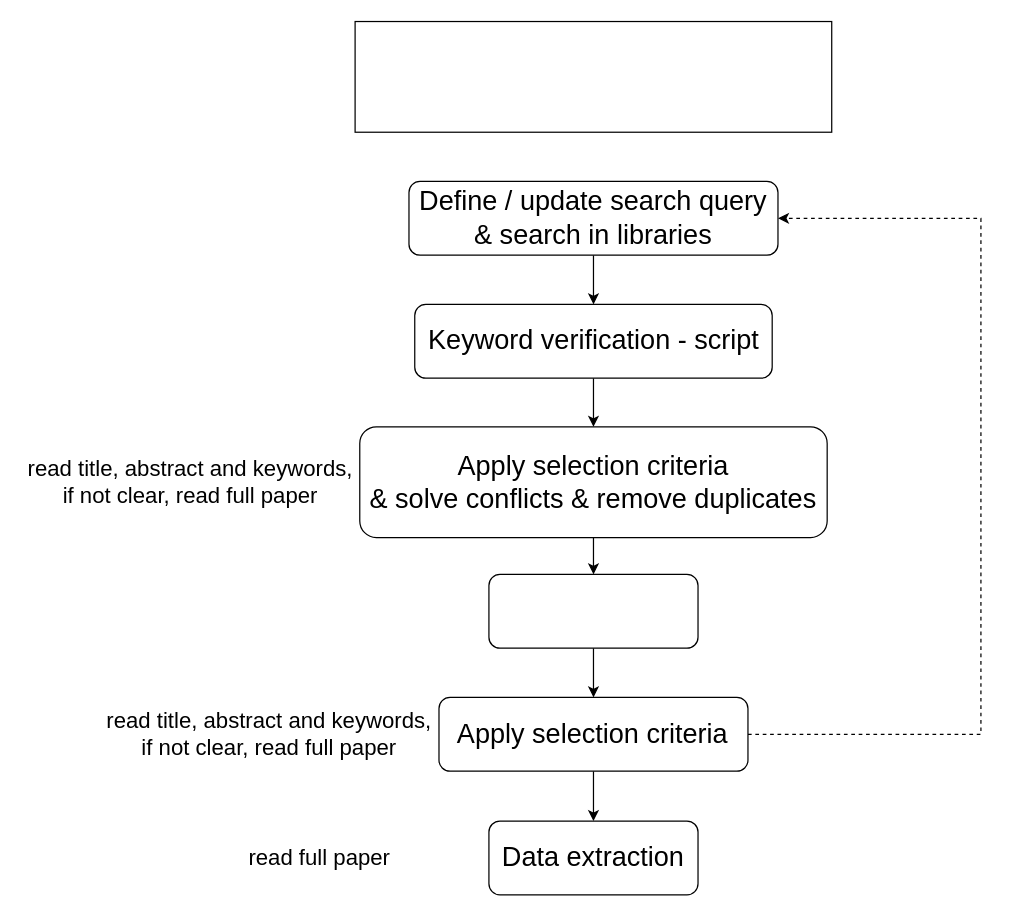
This 1012x916 diagram has some shape labels left out. Each missing label, with the centre of its shape:
prerequisite: initial search query & initial selection criteria: (x=593, y=76)
Snowballing: (x=593, y=610)
